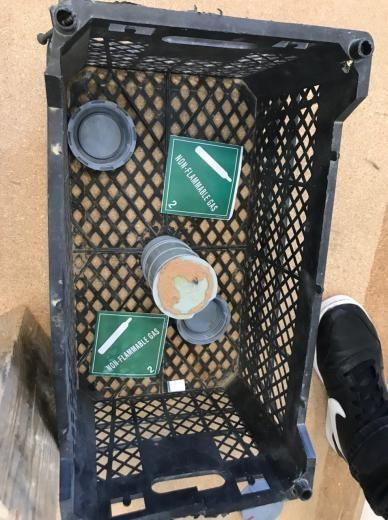non-flammable-gas: (162, 139, 242, 217), (91, 314, 168, 377)
